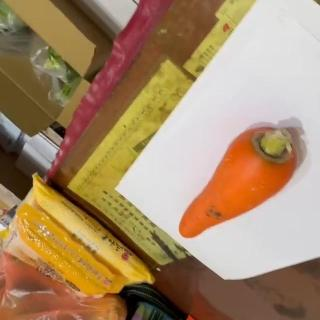carrot: (177, 126, 300, 240)
